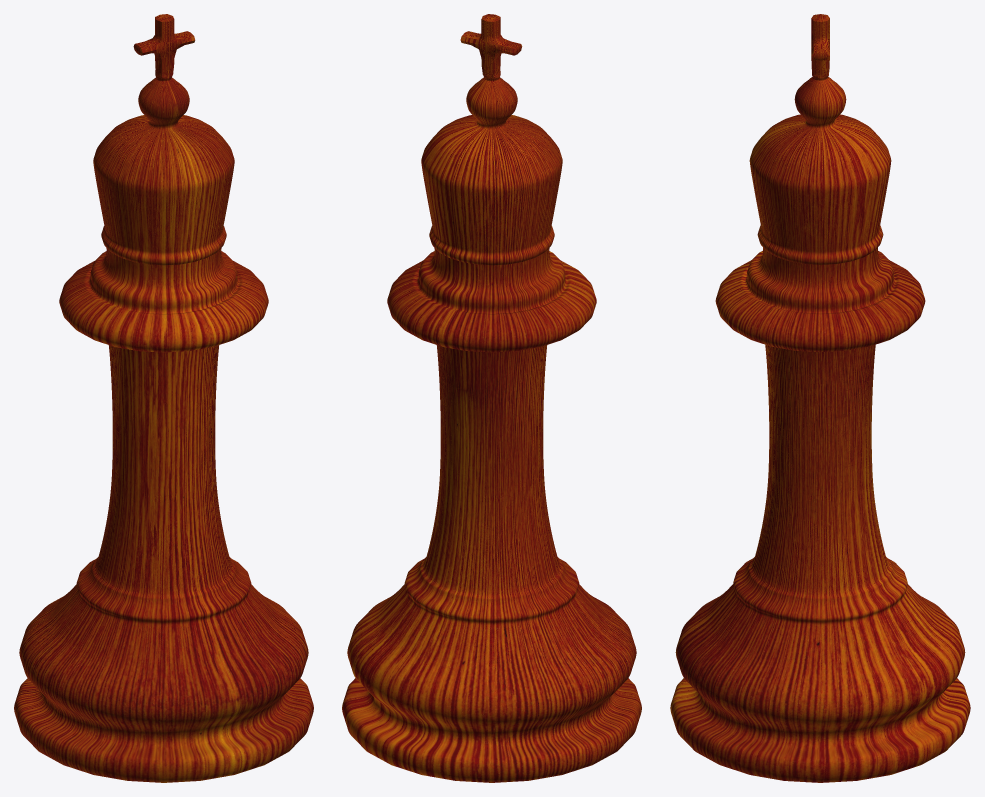
Rendered from King.obj.
3 renders of one model, left to right at view 1: azimuth 30°, elevation 25°; view 2: azimuth 150°, elevation 25°; view 3: azimuth 270°, elevation 25°, orthographic.
Visible parts, largest first — view 1: mesh01.005; view 2: mesh01.005; view 3: mesh01.005.
Boxes of the visible parts, x1,y1,x2,y2 form: mesh01.005: [14, 14, 313, 782]; mesh01.005: [342, 14, 641, 782]; mesh01.005: [670, 14, 970, 782].
Bounding box in the file's own units: 0.0147 × 0.0383 × 0.0147.
Materials: 1 (1 with a texture image).
